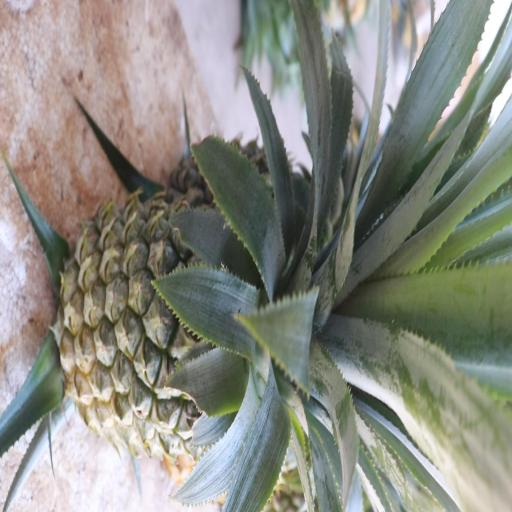------------------------------: (54, 198, 286, 452)
